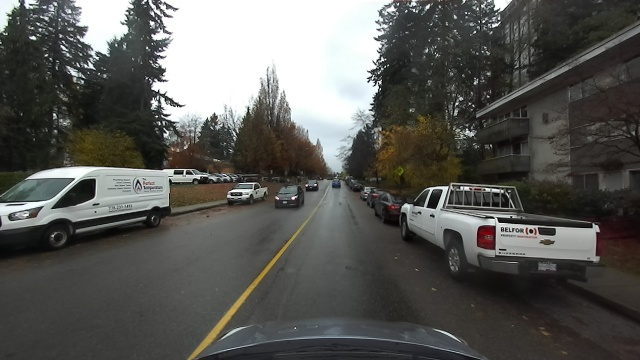car: (398, 181, 602, 284), (1, 164, 174, 261), (372, 190, 416, 226), (225, 182, 271, 206), (164, 166, 205, 189), (274, 184, 307, 212), (303, 177, 321, 195), (359, 183, 380, 197), (330, 178, 343, 189)
